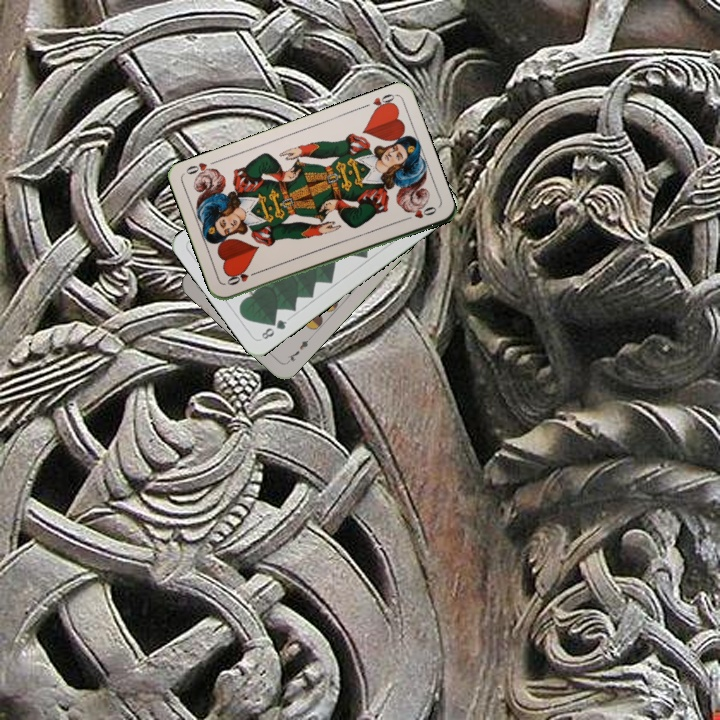E7: (283, 333, 314, 366)
G8: (257, 315, 290, 342)
HO: (358, 90, 398, 115), (223, 267, 262, 288)
